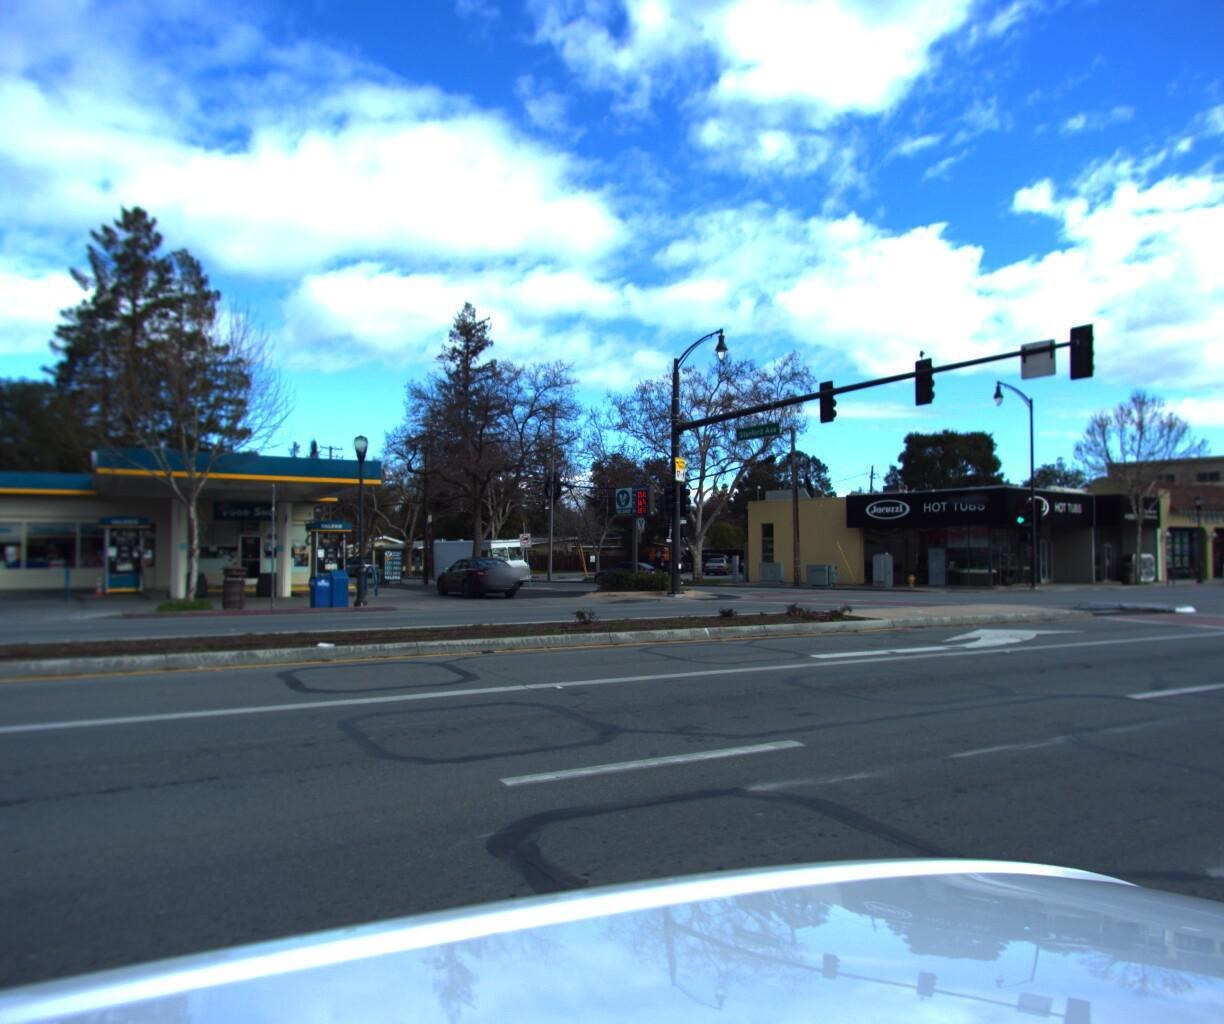car: (430, 548, 532, 598), (336, 552, 383, 573)
truck: (429, 535, 536, 584)
